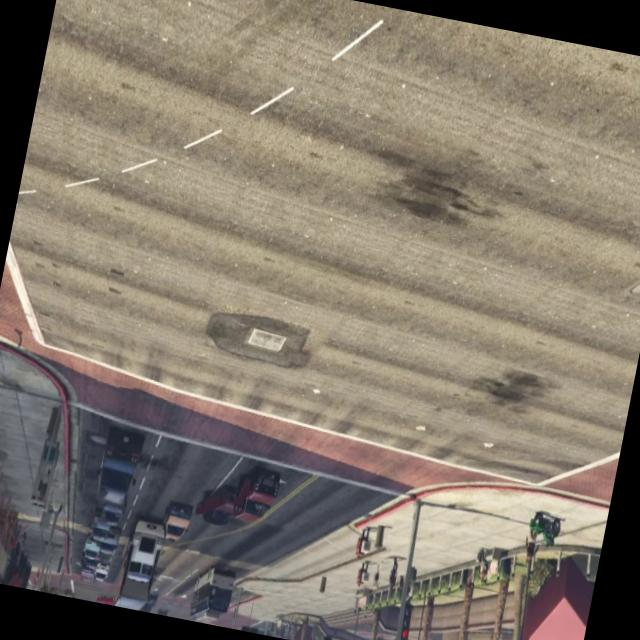Red-Signal: (392, 597, 420, 640), (237, 608, 266, 634), (320, 614, 346, 640)
